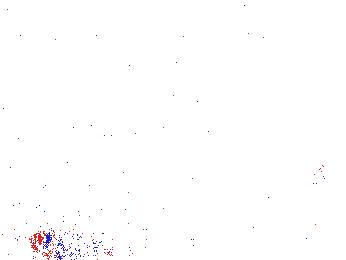X-ray fish: (34, 230, 90, 260), (308, 166, 335, 192)
